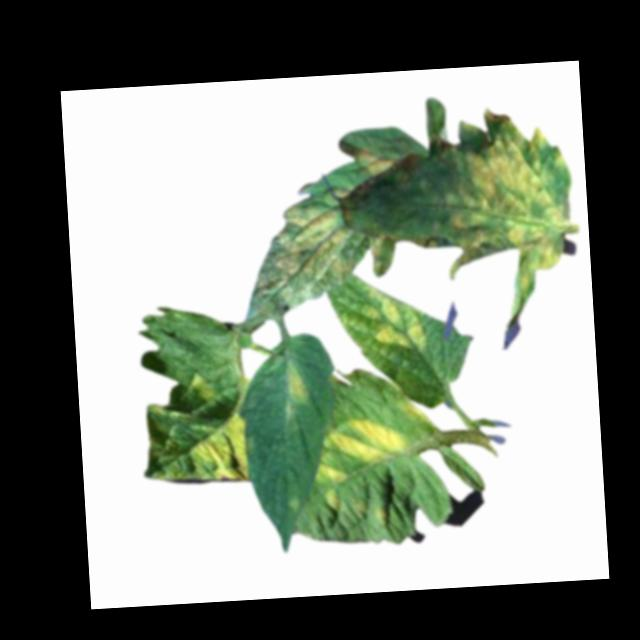Leaf_Mold: (438, 124, 574, 292), (256, 203, 357, 297), (362, 281, 433, 356), (187, 412, 251, 488), (329, 414, 409, 464), (311, 460, 351, 513), (368, 233, 398, 279), (356, 147, 397, 180), (283, 361, 309, 407), (189, 368, 217, 403)
